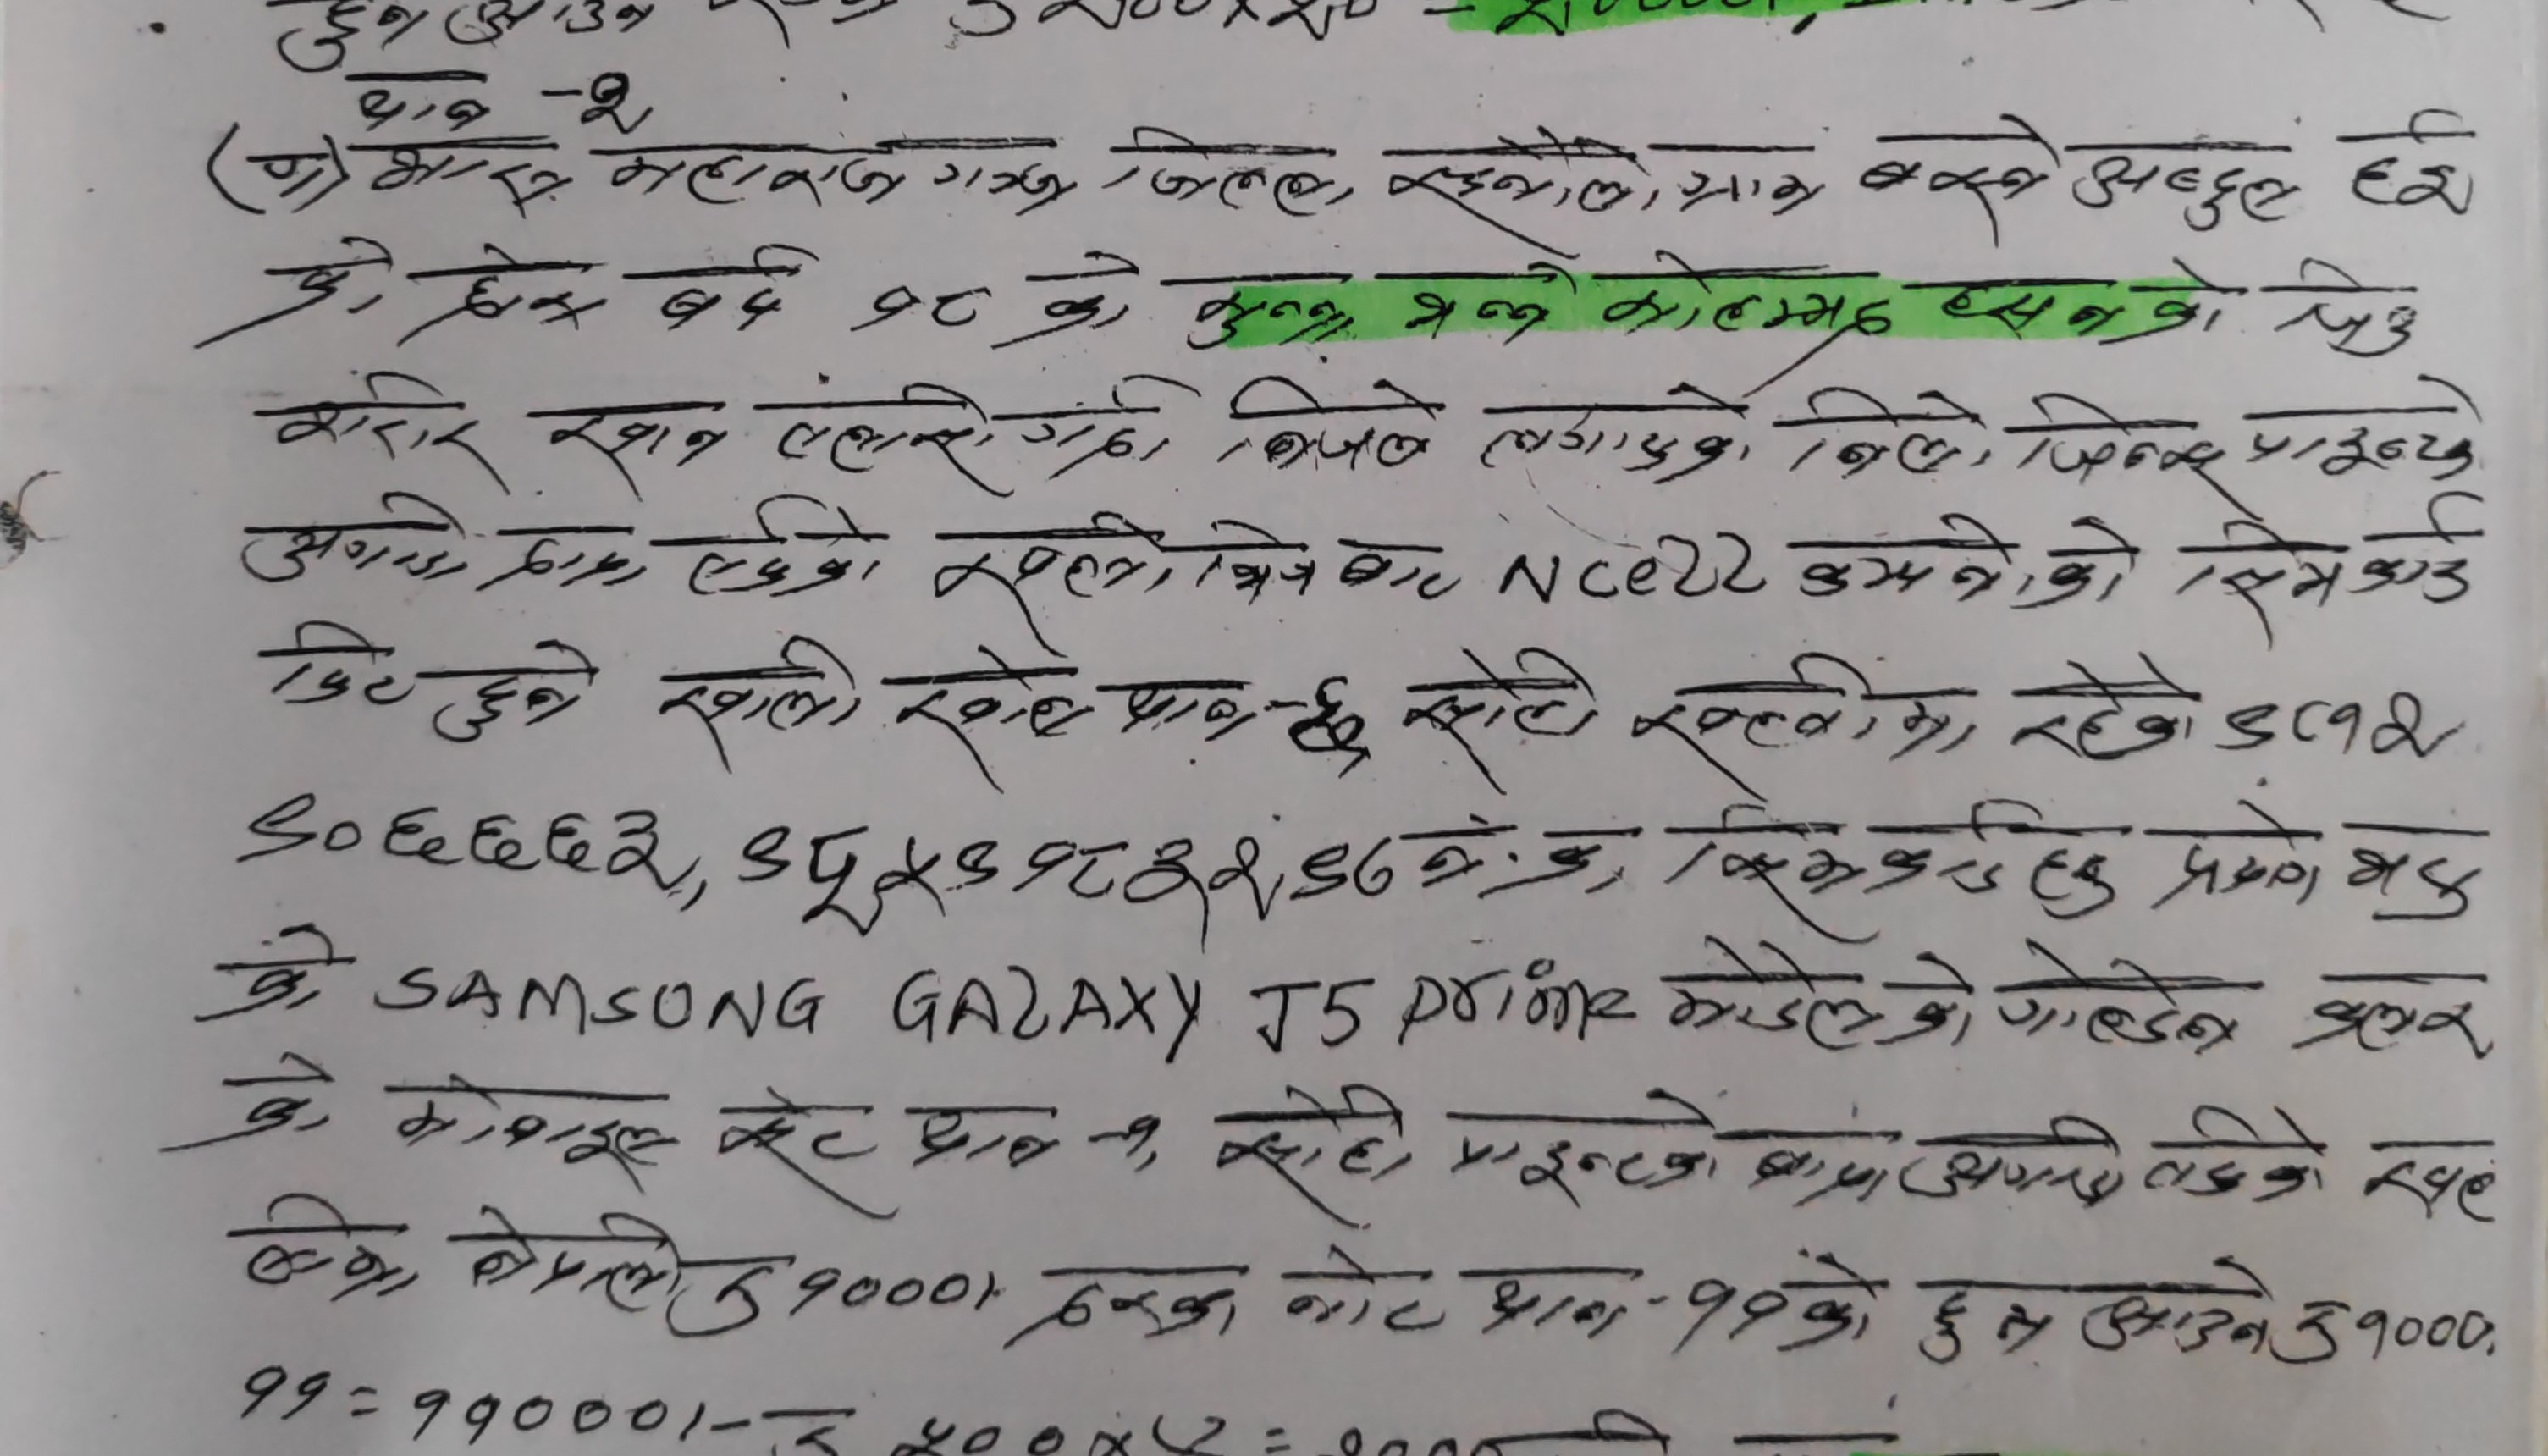text: (725, 816, 1395, 935), (1374, 116, 1838, 254), (1659, 800, 2119, 936), (1628, 646, 1993, 789), (226, 793, 686, 900), (2175, 492, 2488, 646), (184, 123, 579, 229), (1659, 931, 1985, 1057), (599, 140, 1067, 226), (1794, 508, 2140, 621), (382, 1069, 676, 1201), (1593, 245, 1902, 361), (1442, 1085, 1727, 1208), (1474, 369, 1755, 492), (1391, 630, 1605, 786), (915, 504, 1178, 630), (1993, 935, 2250, 1061), (2247, 366, 2492, 492), (1206, 1082, 1416, 1229), (1930, 254, 2238, 353), (445, 1192, 693, 1314), (1839, 112, 2065, 247), (250, 361, 497, 483), (651, 633, 872, 768), (892, 633, 1089, 784), (2016, 383, 2238, 511), (1209, 361, 1435, 483), (1899, 1106, 2135, 1220), (229, 487, 480, 590), (2072, 1251, 2279, 1374), (1097, 119, 1356, 215), (2006, 646, 2203, 772), (1780, 380, 2006, 490), (707, 1092, 896, 1221), (2062, 135, 2306, 234), (667, 495, 892, 602), (1414, 807, 1641, 910), (2140, 1092, 2333, 1213), (1010, 1260, 1244, 1358), (765, 383, 992, 483), (418, 633, 614, 749), (2207, 686, 2468, 772), (417, 234, 618, 345), (238, 1192, 429, 1307), (714, 1257, 975, 1339), (2286, 966, 2504, 1062), (401, 1379, 674, 1456), (1160, 257, 1363, 361), (2163, 800, 2336, 919), (187, 1047, 350, 1167), (257, 611, 417, 728), (2275, 1288, 2501, 1370), (1010, 373, 1188, 476), (226, 233, 397, 338), (1398, 254, 1577, 353), (2341, 103, 2488, 222), (527, 397, 728, 483), (1272, 1239, 1446, 1335), (2338, 817, 2488, 928), (639, 238, 803, 336), (1734, 1117, 1894, 1216), (1181, 501, 1327, 607), (2270, 262, 2417, 364), (2361, 1138, 2504, 1239), (1470, 1260, 1636, 1348), (191, 924, 338, 1022), (1099, 665, 1260, 754), (1923, 1279, 2065, 1374), (907, 1097, 1067, 1176), (1022, 241, 1146, 341), (329, 63, 501, 135), (845, 269, 991, 352), (1285, 669, 1383, 781), (1328, 530, 1458, 614), (511, 523, 655, 599), (1670, 1267, 1783, 1358), (1787, 1253, 1890, 1351), (231, 1360, 338, 1430), (572, 67, 655, 138)
